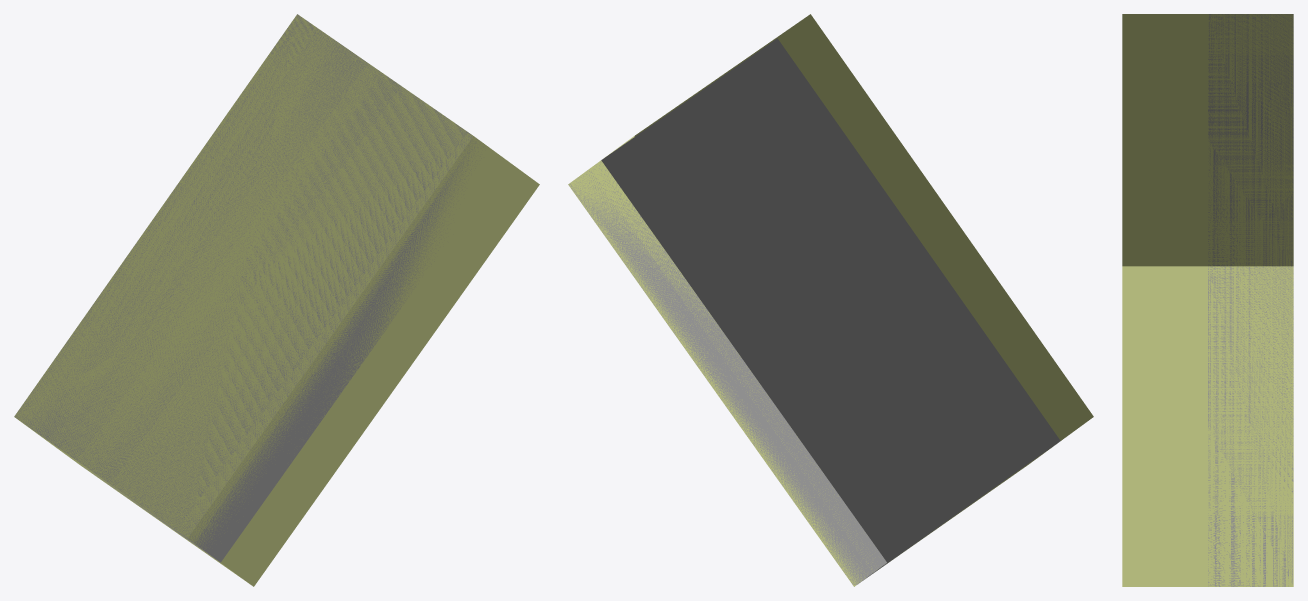
The picture shows the model from 3 angles, left to right: view 1: azimuth 30°, elevation 25°; view 2: azimuth 150°, elevation 25°; view 3: azimuth 270°, elevation 25°; orthographic projection. The views are drawn at different scales.
Visible parts, largest first — view 1: 0_1_2_0_3_3_1_2_2; view 2: 0_1_2_0_3_3_1_2_2; view 3: 0_1_2_0_3_3_1_2_2.
Part boxes in pixels (left/top/right/bottom): 0_1_2_0_3_3_1_2_2: left=14, top=14, right=539, bottom=586; 0_1_2_0_3_3_1_2_2: left=568, top=14, right=1093, bottom=586; 0_1_2_0_3_3_1_2_2: left=1122, top=14, right=1293, bottom=586.
Size of the model in its own units: 24.02 by 24.85 by 6.
